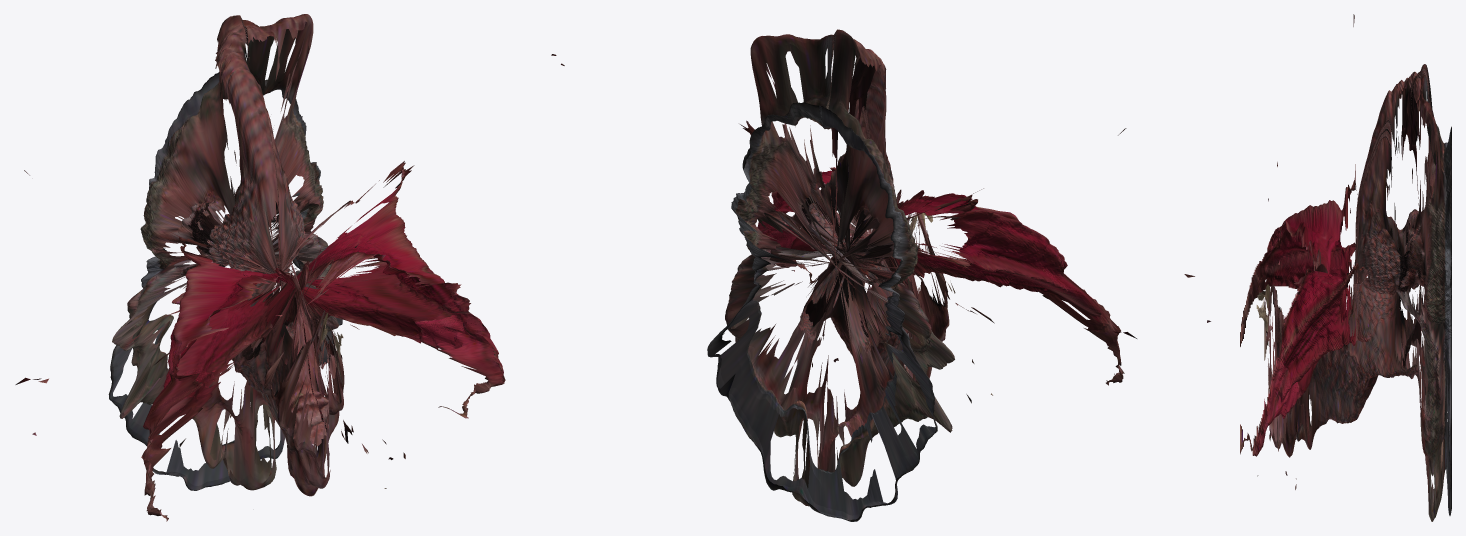
The picture shows the model from 3 angles, left to right: view 1: azimuth 30°, elevation 25°; view 2: azimuth 150°, elevation 25°; view 3: azimuth 270°, elevation 25°; orthographic projection. The views are drawn at different scales.
Visible parts, largest first — view 1: geometry_0; view 2: geometry_0; view 3: geometry_0.
Part boxes in pixels (x1,y1,x2,y2): geometry_0: [15, 14, 564, 521]; geometry_0: [707, 29, 1210, 521]; geometry_0: [1240, 14, 1451, 521].
Bounding box in the file's own units: 1.84 × 1.47 × 0.6399.
Materials: 1 (1 with a texture image).
